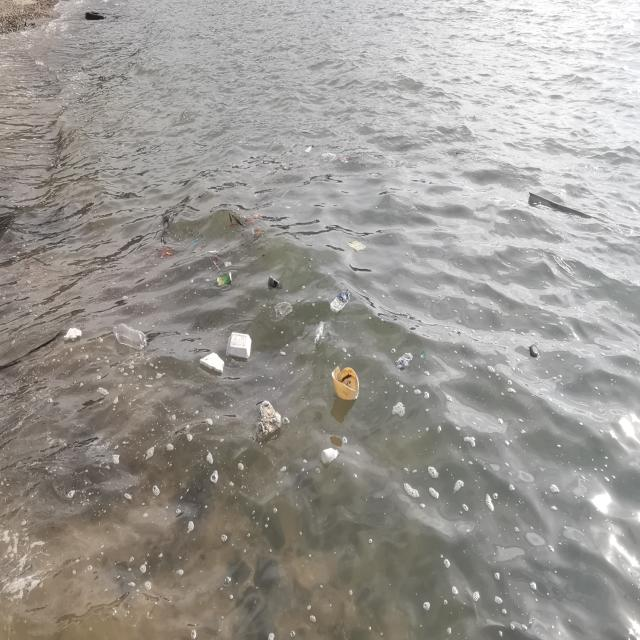can: (216, 270, 231, 288)
foam: (256, 400, 281, 440), (226, 332, 252, 359), (200, 350, 224, 375), (58, 326, 82, 342)
plastic: (113, 323, 146, 351), (330, 290, 350, 315), (396, 351, 413, 369), (322, 448, 339, 466), (314, 321, 325, 343), (268, 276, 280, 290)
plastic bottle: (332, 364, 360, 402), (349, 238, 364, 253)
unknow: (270, 301, 295, 323), (154, 246, 176, 257), (189, 235, 204, 250), (530, 344, 539, 358)
